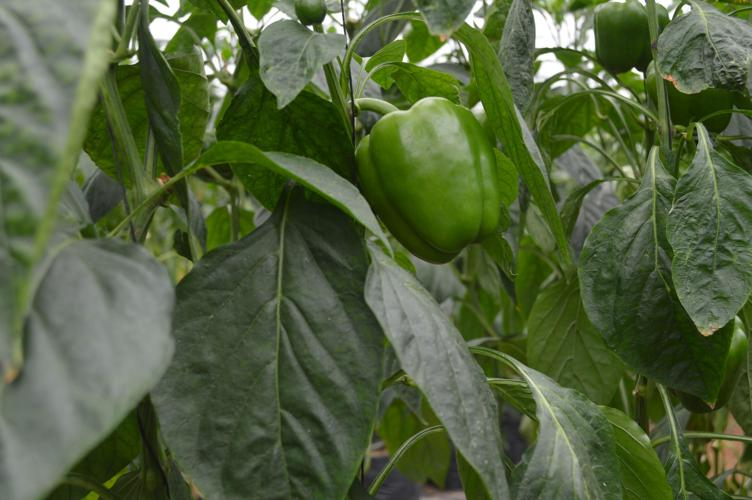BellPepper: (340, 95, 509, 262), (587, 3, 651, 86)
